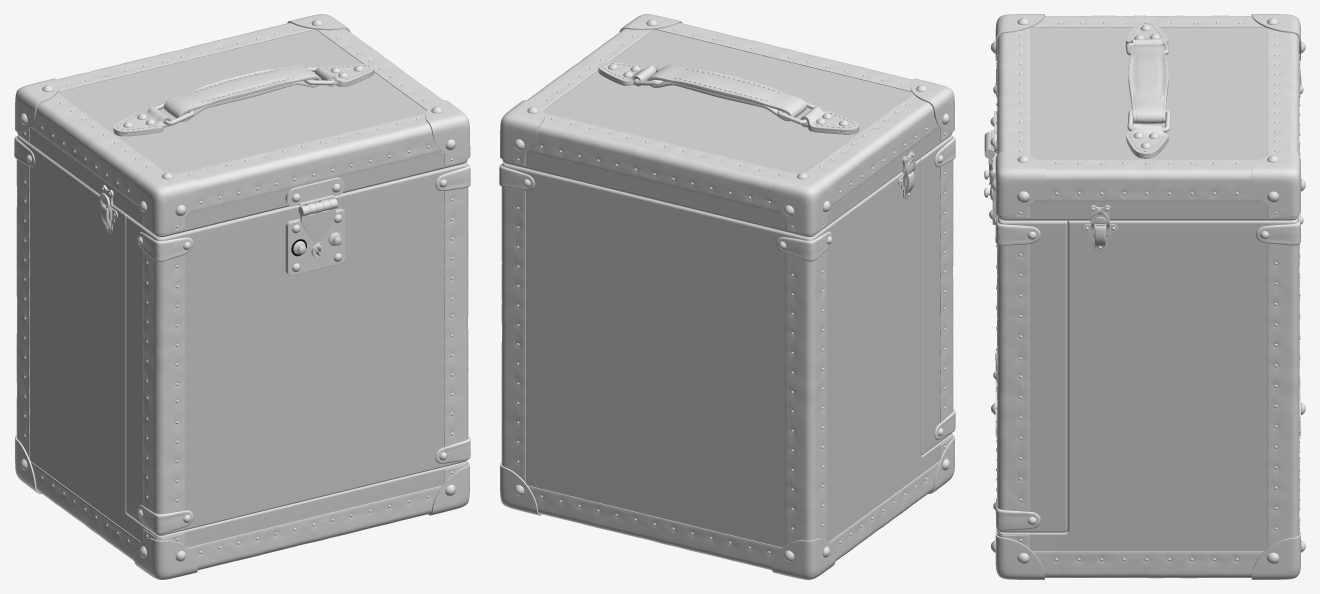
Rendered from trunk.glb.
3 views of the same model, side by side, from view 1: azimuth 30°, elevation 25°; view 2: azimuth 150°, elevation 25°; view 3: azimuth 270°, elevation 25° (orthographic). The views are drawn at different scales.
Visible parts, largest first — view 1: surface_side_front, surface_sides_back_bot, surface_bot.001, vertical_losine_front.008, horizontal_long_losine, vertical_front_losine, horizontal_long_losine.001, surface_sides_top, horizontal_short_losine.014, horizontal_long_losine.015, handle, horizontal_long_losine.010 (+18 smaller); view 2: surface_sides_back_bot, surface_bot.001, horizontal_long_losine.015, horizontal_long_losine.010, vertical_back_losine, surface_sides_top, horizontal_long_losine.004, surface_side_front, horizontal_short_losine.014, vertical_losine_front.008, handle, horizontal_long_losine (+13 smaller); view 3: surface_sides_back_bot, surface_bot.001, surface_side_front, vertical_back_losine, horizontal_short_losine, vertical_front_losine, horizontal_long_losine.008, surface_sides_top, horizontal_long_losine.010, horizontal_long_losine, handle, horizontal_short_losine.014 (+12 smaller).
Boxes of the visible parts, x1,y1,x2,y2 form: surface_side_front: (126,162,467,535); surface_sides_back_bot: (17,135,467,547); surface_bot.001: (57,29,426,173); vertical_losine_front.008: (142,250,184,514); horizontal_long_losine: (176,112,441,213); vertical_front_losine: (444,187,468,447); horizontal_long_losine.001: (187,485,441,570); surface_sides_top: (17,127,467,236); horizontal_short_losine.014: (30,93,164,206); horizontal_long_losine.015: (16,159,29,459); handle: (163,65,321,121); horizontal_long_losine.010: (57,23,313,91); surface_sides_back_bot: (502,159,952,547); surface_bot.001: (543,29,912,173); horizontal_long_losine.015: (785,250,827,545); horizontal_long_losine.010: (528,112,793,213); vertical_back_losine: (501,187,525,482); surface_sides_top: (502,127,952,236); horizontal_long_losine.004: (528,485,782,570); surface_side_front: (919,135,952,455); horizontal_short_losine.014: (805,93,939,206); vertical_losine_front.008: (940,160,953,422); handle: (648,65,806,121); horizontal_long_losine: (655,23,912,91); surface_sides_back_bot: (998,216,1298,551); surface_bot.001: (1029,27,1266,159); surface_side_front: (998,217,1067,532); vertical_back_losine: (1267,243,1299,548); horizontal_short_losine: (1033,159,1262,201); vertical_front_losine: (997,218,1029,511); horizontal_long_losine.008: (1032,551,1263,578); surface_sides_top: (998,202,1298,220); horizontal_long_losine.010: (1267,28,1299,156); horizontal_long_losine: (997,28,1029,156); handle: (1128,45,1168,123); horizontal_short_losine.014: (1031,15,1264,27).
Size of the model in its own units: 0.2613 by 0.3179 by 0.2138.
Materials: 8 (1 with a texture image).
